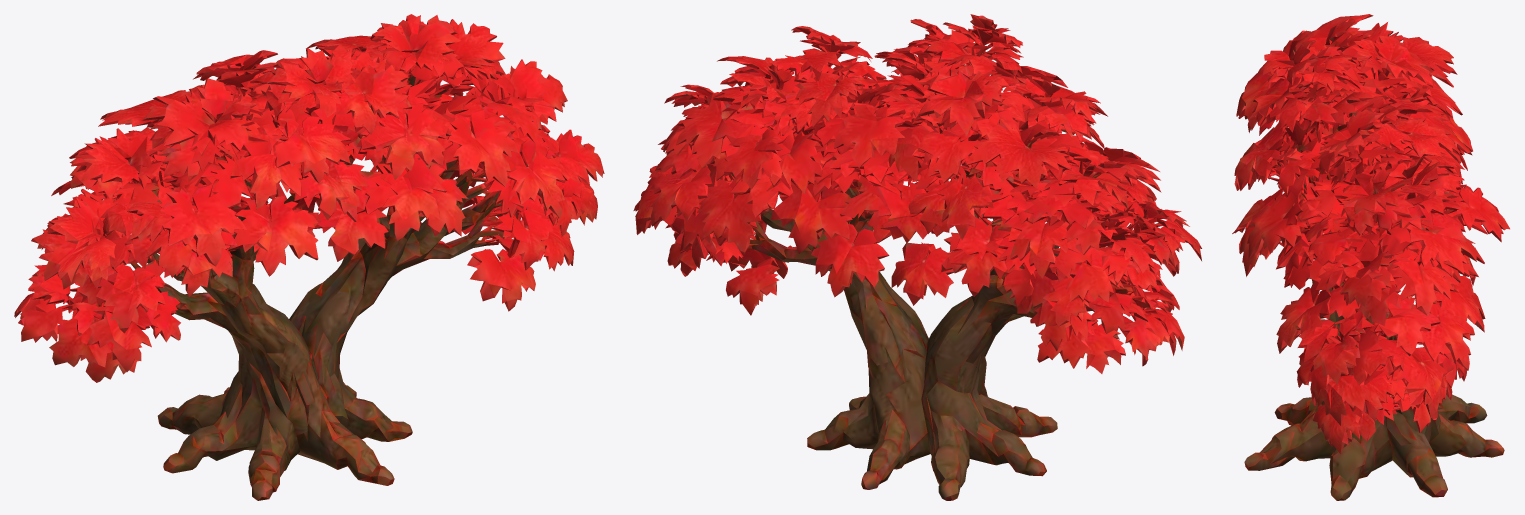
The model's file is upm_mv3pq74939p.glb.
3 renders of one model, left to right at view 1: azimuth 30°, elevation 25°; view 2: azimuth 150°, elevation 25°; view 3: azimuth 270°, elevation 25°, orthographic. The views are drawn at different scales.
Bounding box in the file's own units: 1.9 × 1.37 × 0.8389.
1 material, 1 textured.
